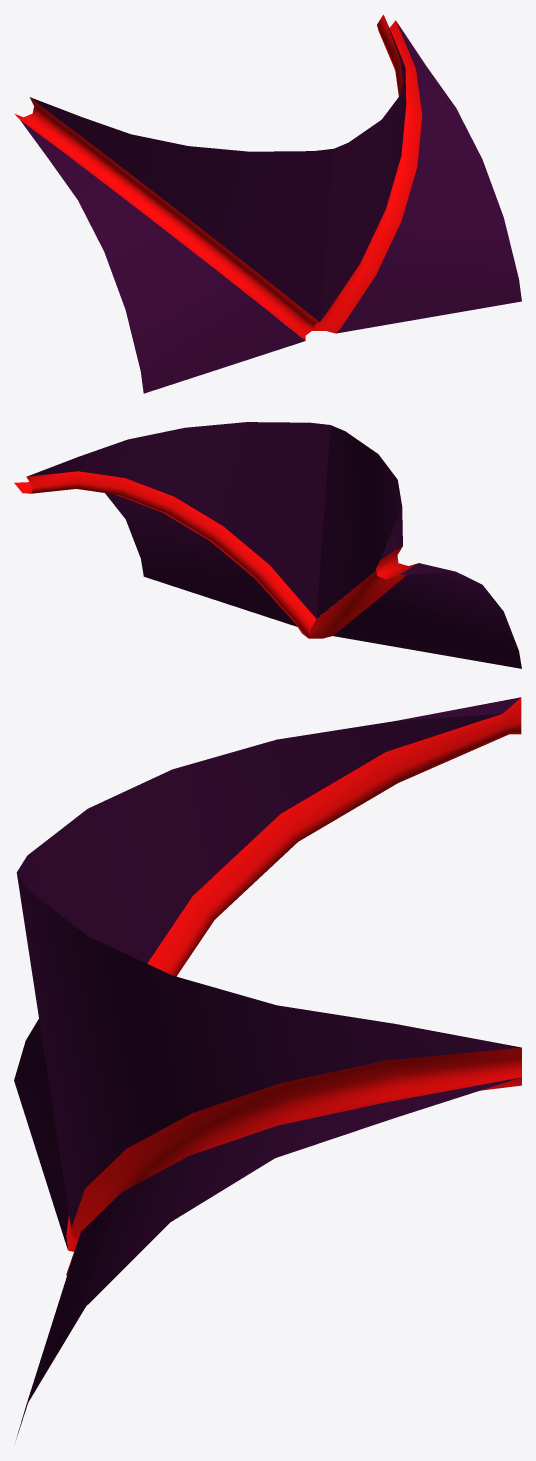
The model's file is Cath_arcVaultHalf1_s.FBX.
3 views of the same model, one above another, from view 1: azimuth 30°, elevation 25°; view 2: azimuth 150°, elevation 25°; view 3: azimuth 270°, elevation 25° (orthographic). The views are drawn at different scales.
Visible parts, largest first — view 1: Cath_arcVaultHalf1_s; view 2: Cath_arcVaultHalf1_s; view 3: Cath_arcVaultHalf1_s.
Part boxes in pixels (<box>): Cath_arcVaultHalf1_s: <box>14,14,521,393</box>; Cath_arcVaultHalf1_s: <box>14,422,521,668</box>; Cath_arcVaultHalf1_s: <box>14,697,521,1439</box>.
Size of the model in its own units: 354 by 205 by 177.
